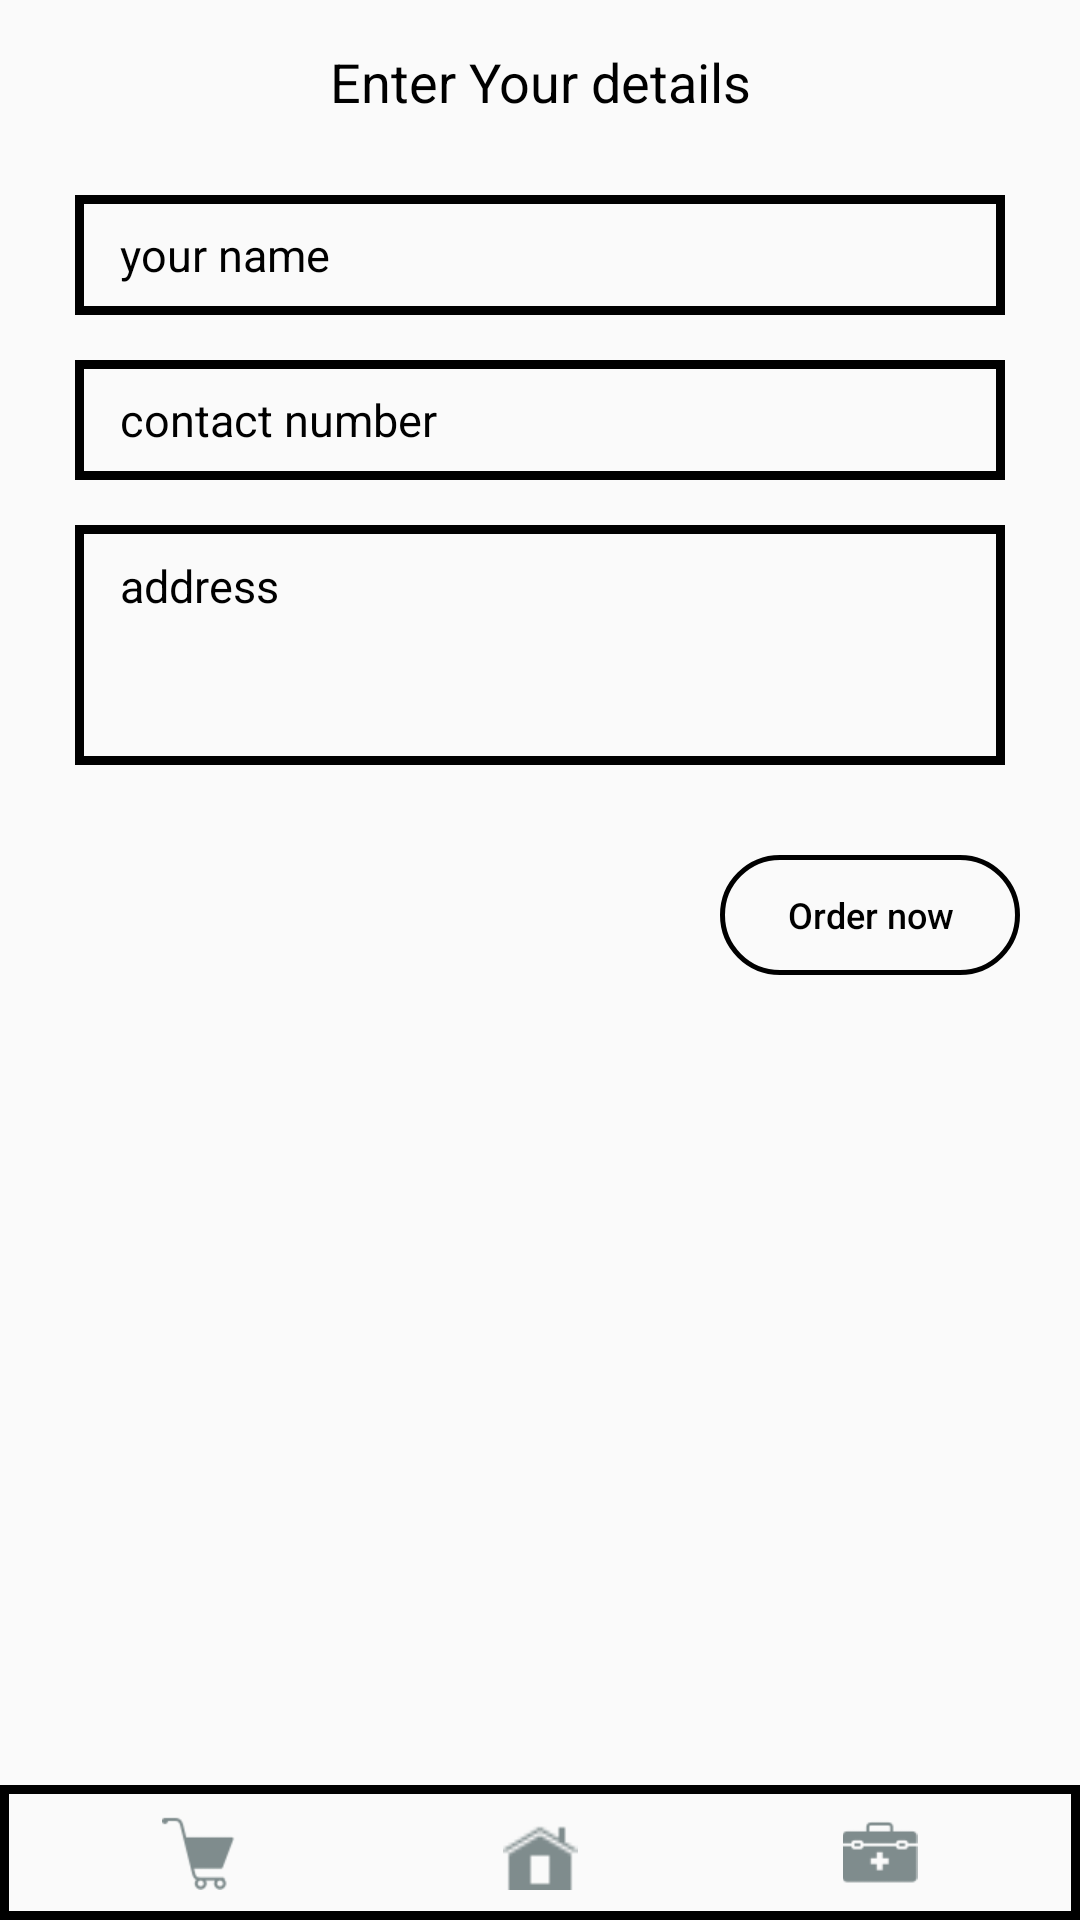

Named icons in this screenshot (1080px x 1920px) and their bounding boxes, box(x1, y1, x2, y2):
cart: box(162, 1818, 234, 1890)
homepage: box(503, 1827, 578, 1890)
